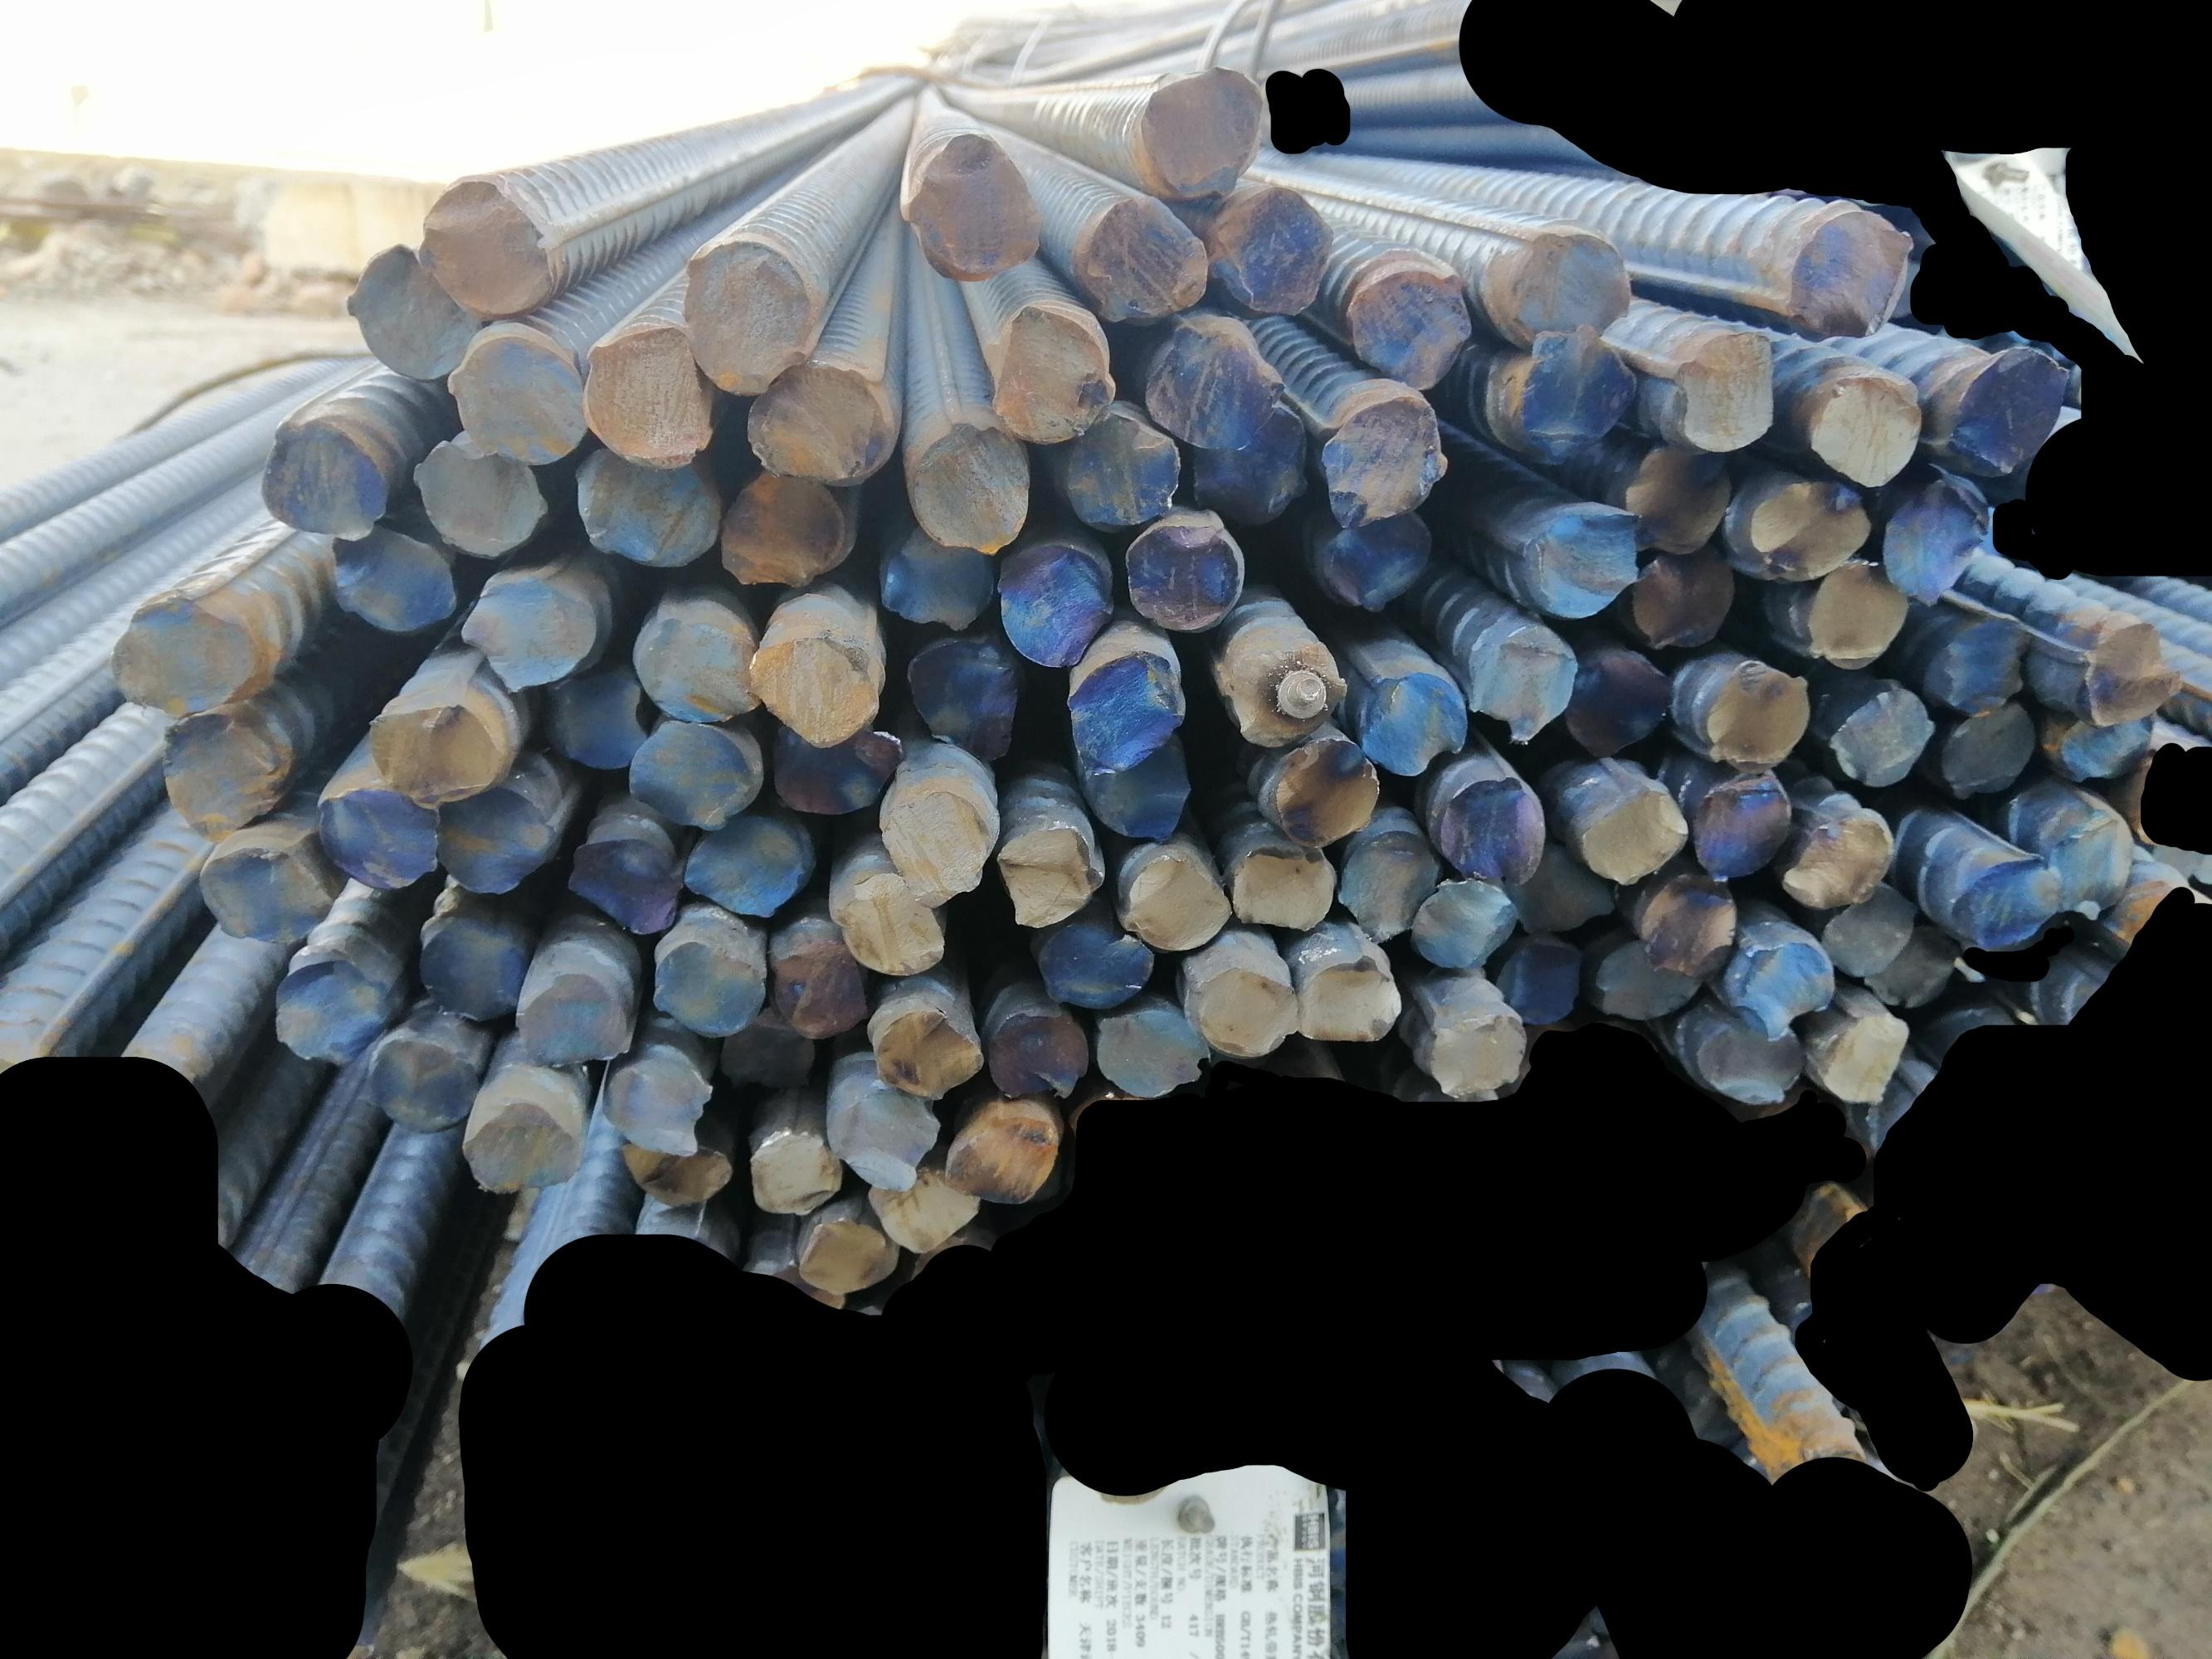bar: (675, 239, 807, 400), (904, 130, 1041, 279), (103, 594, 266, 718), (415, 180, 559, 319), (563, 442, 720, 567), (714, 458, 855, 596), (737, 359, 890, 486), (336, 243, 475, 382), (577, 324, 711, 468), (441, 332, 584, 465), (1071, 193, 1211, 329), (1132, 62, 1270, 197), (904, 418, 1034, 561), (1781, 208, 1919, 343), (1318, 391, 1450, 530), (1508, 326, 1639, 466), (1143, 324, 1285, 452), (991, 306, 1118, 446), (1340, 263, 1474, 394), (156, 711, 291, 840), (411, 437, 546, 564), (1054, 650, 1191, 775), (1947, 336, 2070, 475), (1498, 231, 1639, 353), (250, 421, 392, 541), (1056, 406, 1182, 539), (904, 629, 1024, 769), (1211, 184, 1334, 320), (314, 523, 463, 635), (995, 537, 1116, 674), (358, 699, 506, 810), (456, 579, 602, 690), (744, 632, 879, 750), (1612, 433, 1738, 559), (624, 713, 756, 832), (1879, 471, 1995, 606), (876, 509, 998, 636), (1803, 363, 1924, 490), (1118, 521, 1246, 639), (426, 786, 559, 900), (1189, 404, 1314, 524), (1521, 504, 1644, 625), (1745, 471, 1878, 582), (265, 956, 396, 1068), (629, 612, 758, 725), (1663, 329, 1780, 452), (1325, 825, 1440, 949), (1467, 620, 1581, 747), (1225, 636, 1350, 750), (195, 847, 335, 948), (873, 788, 994, 905), (312, 784, 442, 892), (602, 1043, 719, 1160), (1314, 504, 1436, 615), (772, 713, 905, 815), (1075, 733, 1198, 843), (1428, 775, 1547, 887), (1350, 668, 1470, 778), (1699, 659, 1812, 776), (1630, 867, 1743, 983), (646, 936, 770, 1040), (827, 870, 947, 978), (1723, 934, 1839, 1044), (1560, 646, 1669, 762), (1779, 805, 1897, 913), (1800, 557, 1912, 671), (1635, 537, 1740, 655), (1573, 783, 1692, 888), (1827, 678, 1937, 790), (992, 821, 1104, 930), (1186, 956, 1301, 1062), (1918, 613, 2035, 717), (1689, 766, 1792, 884), (1270, 739, 1379, 850), (1116, 849, 1231, 953), (2074, 619, 2186, 726), (1032, 918, 1162, 1010), (566, 836, 680, 940), (940, 1107, 1062, 1204), (826, 1082, 938, 1189), (1409, 870, 1519, 975), (1690, 1013, 1809, 1111), (537, 678, 660, 771), (685, 820, 802, 917), (1501, 839, 1619, 937), (870, 1004, 983, 1103), (465, 1099, 585, 1193), (420, 914, 520, 1026), (1946, 854, 2068, 945), (1296, 945, 1402, 1049), (367, 1037, 480, 1135), (1225, 836, 1337, 934), (979, 1004, 1089, 1104), (1089, 1010, 1211, 1099), (1810, 883, 1919, 982), (519, 973, 633, 1068), (1816, 1001, 1909, 1110), (2042, 810, 2135, 918), (1590, 928, 1703, 1016), (1937, 703, 2040, 799), (860, 1172, 982, 1253), (1859, 925, 1966, 1014), (1418, 1014, 1529, 1099), (774, 940, 869, 1040), (744, 1126, 843, 1220), (1488, 936, 1587, 1026), (616, 1131, 733, 1205), (799, 1216, 902, 1296), (1502, 1017, 1593, 1105), (2054, 713, 2163, 786), (1570, 1008, 1662, 1092), (716, 1023, 818, 1097), (1202, 1034, 1283, 1082)
